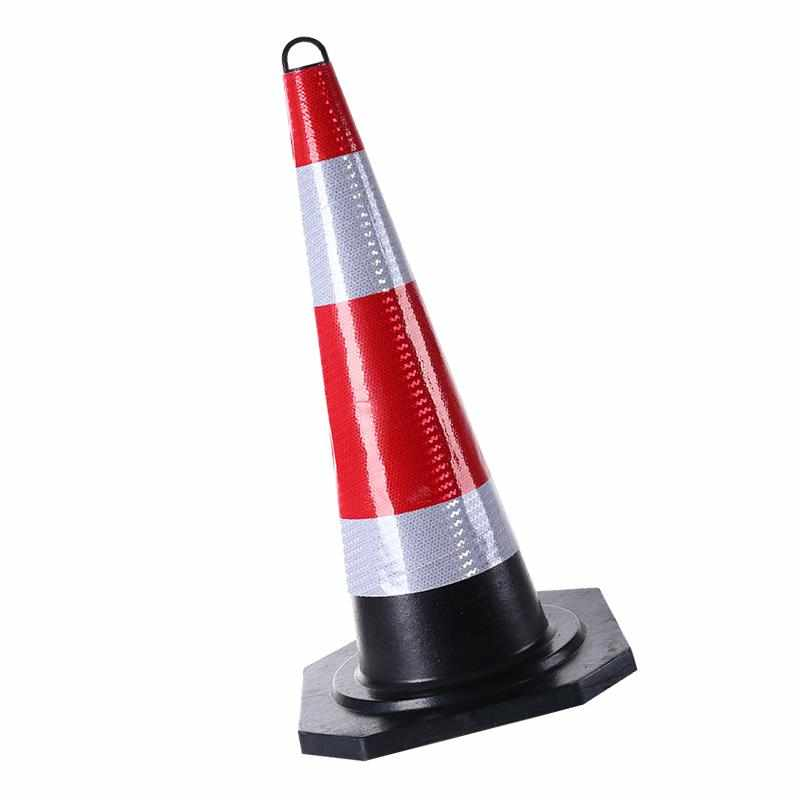traffic_cone: (176, 19, 663, 742)
